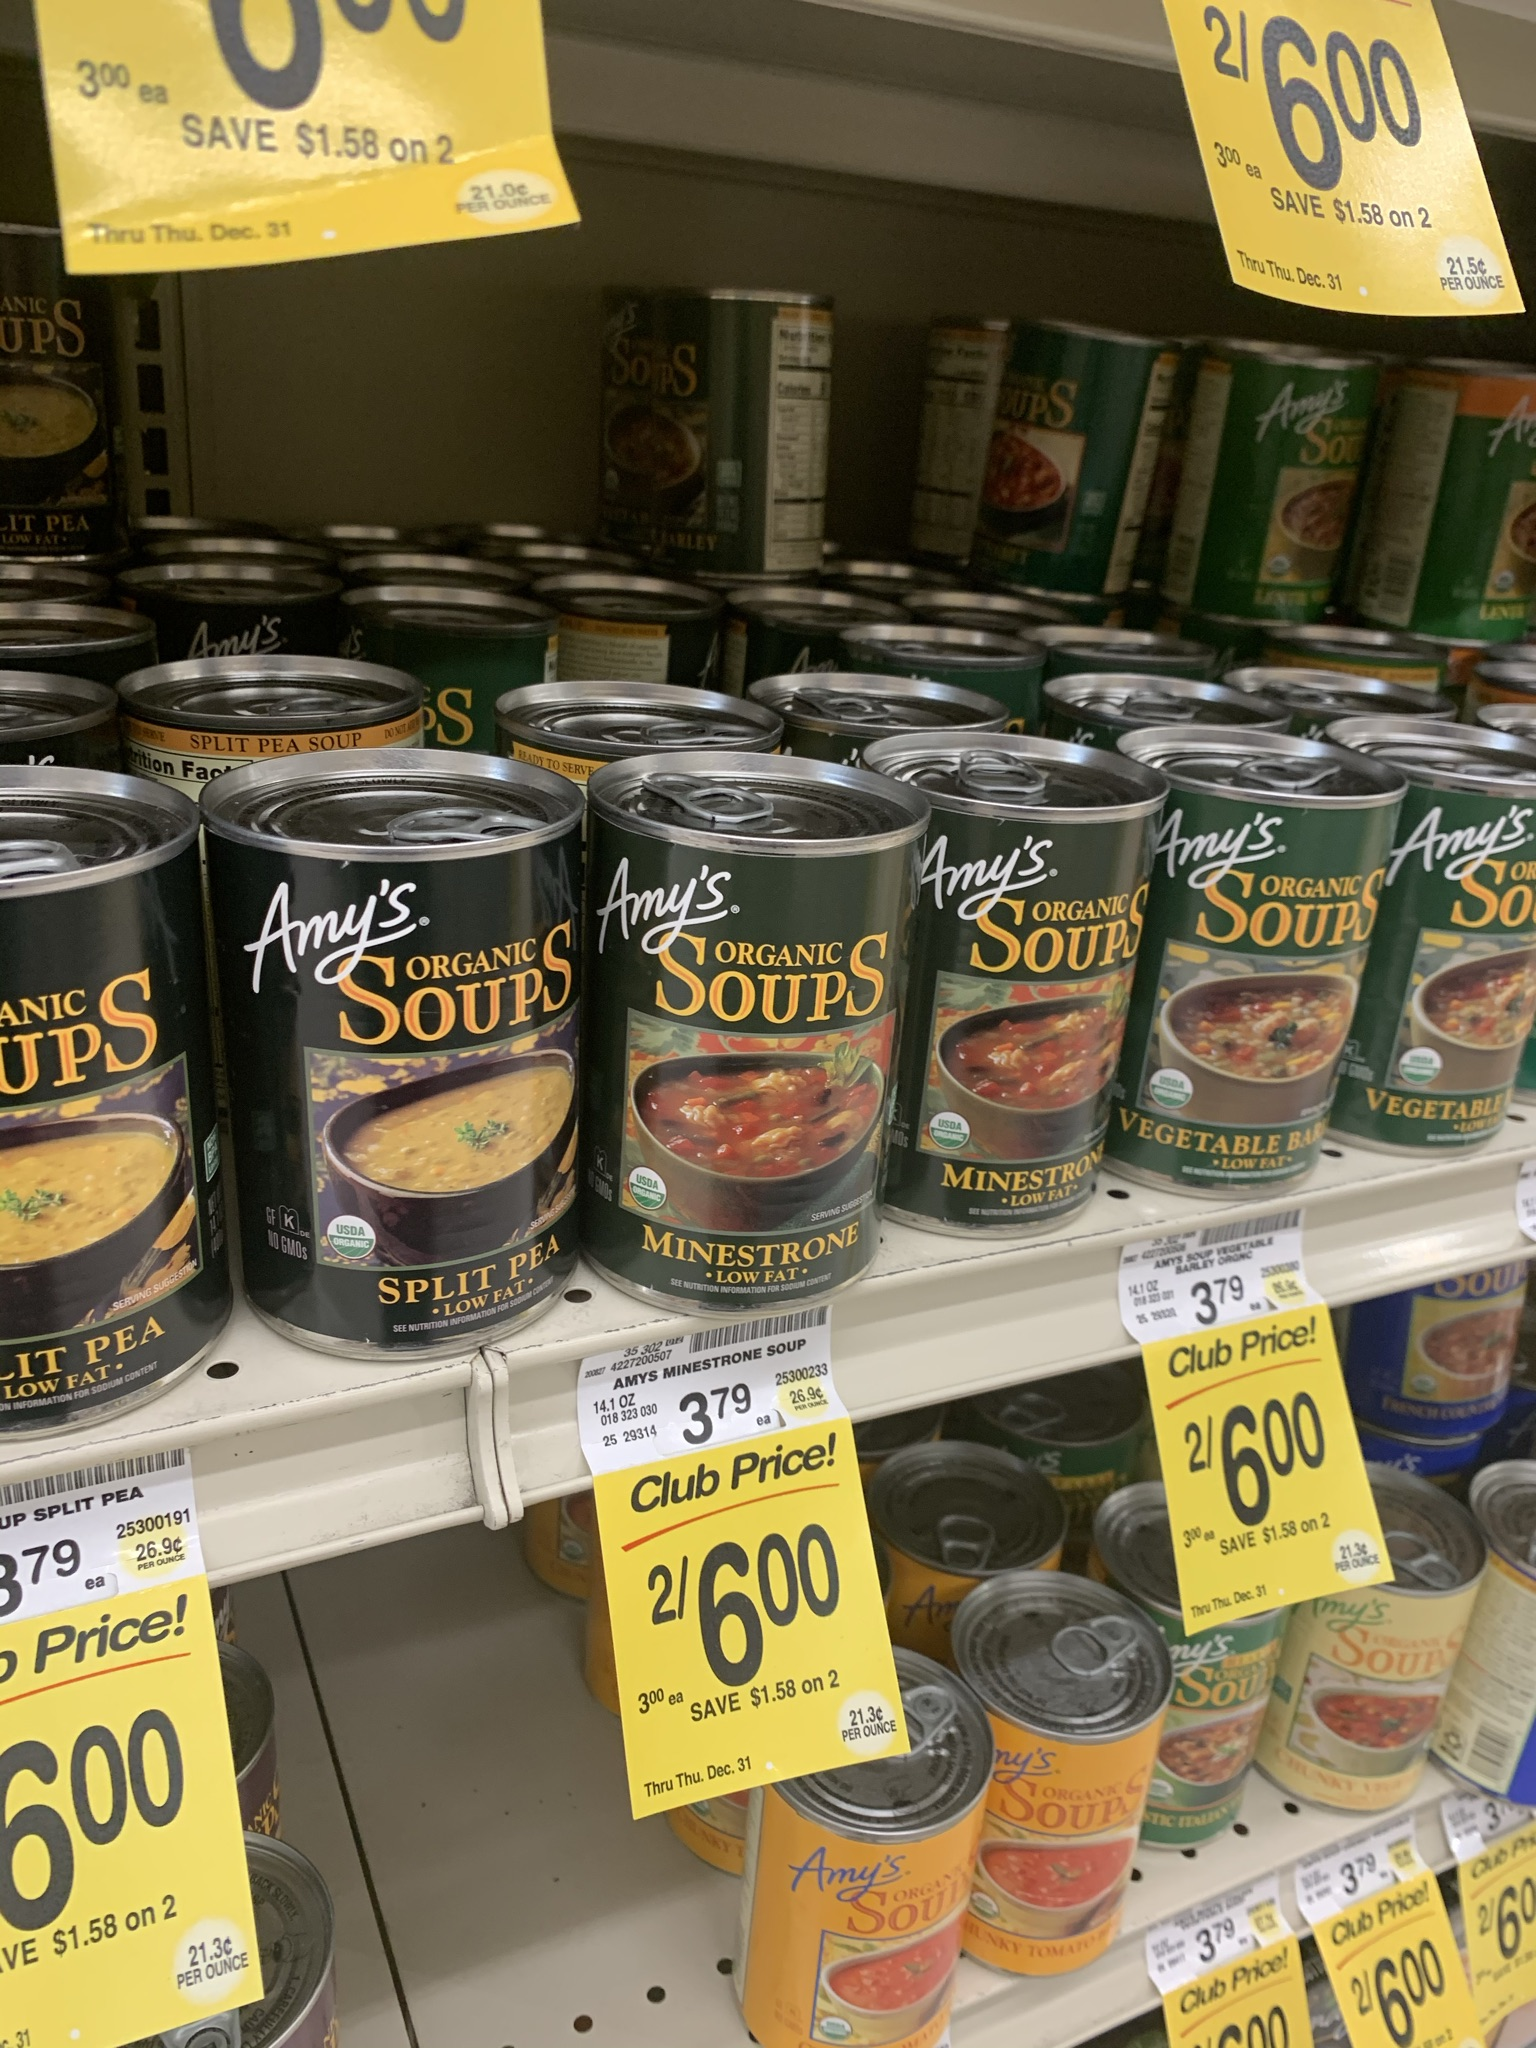can: (219, 810, 578, 1298), (626, 793, 870, 1264), (2, 834, 177, 1414), (949, 806, 1100, 1209), (758, 1775, 978, 2048), (1176, 806, 1307, 1188), (671, 300, 820, 568), (1197, 360, 1341, 618), (1413, 797, 1517, 1143), (999, 1655, 1117, 1932), (1013, 335, 1133, 585), (1417, 376, 1528, 634), (1318, 1617, 1441, 1801), (1171, 1650, 1271, 1806)
